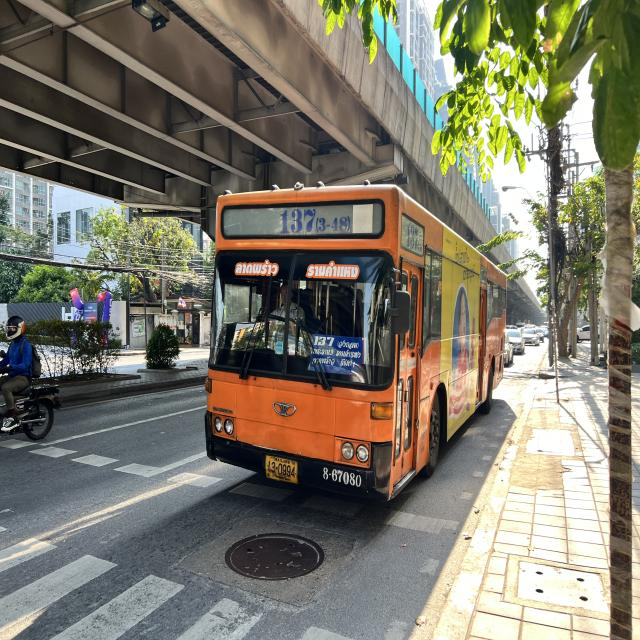BMTA-bus: (202, 185, 507, 502)
Bus-Line-Number: (277, 204, 353, 236)
Destination-Sign-Normal: (311, 333, 364, 374)
